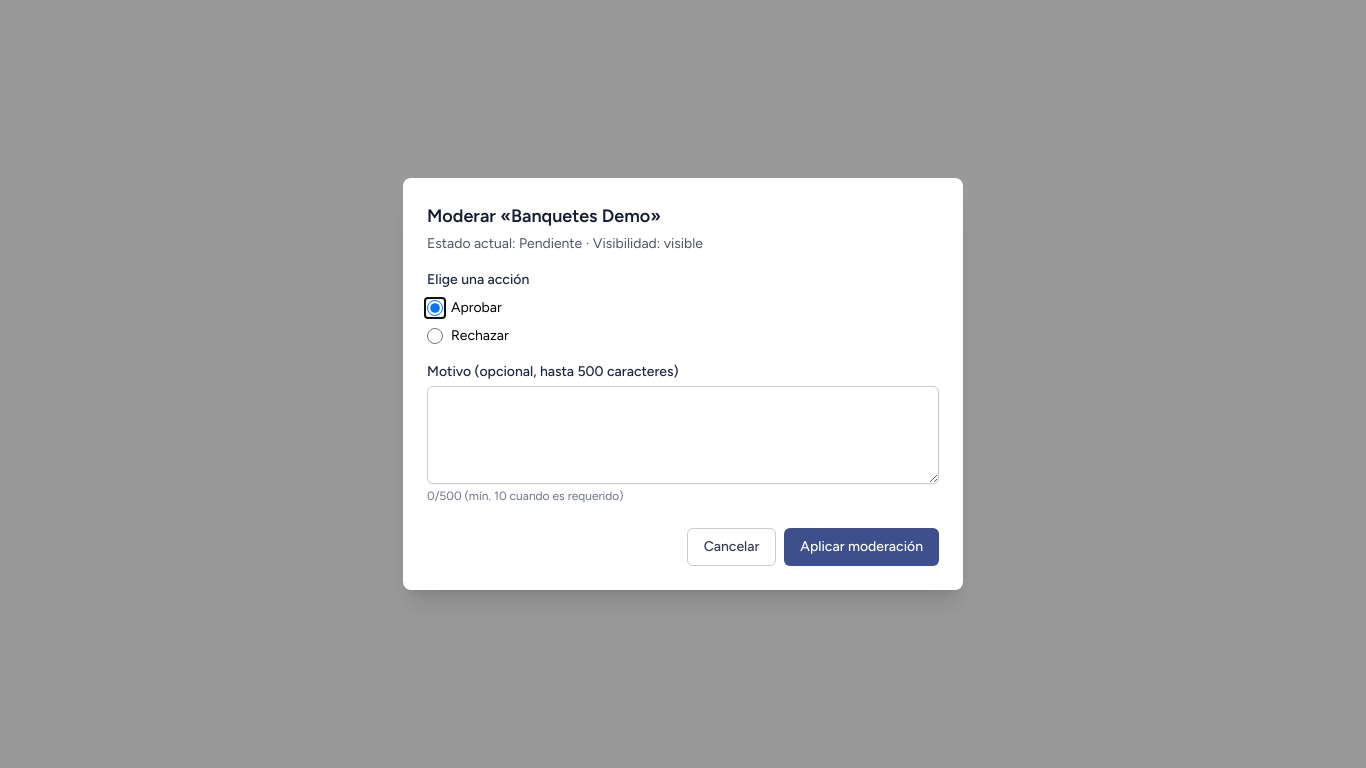
Test: US-074 · VendorModerationDialog › reject (D4) exige reason >= 10 — submit deshabilitado con reason vacío o corto
Click the radio button labelled "Rechazar" at (435, 336), box [427,328,443,344]
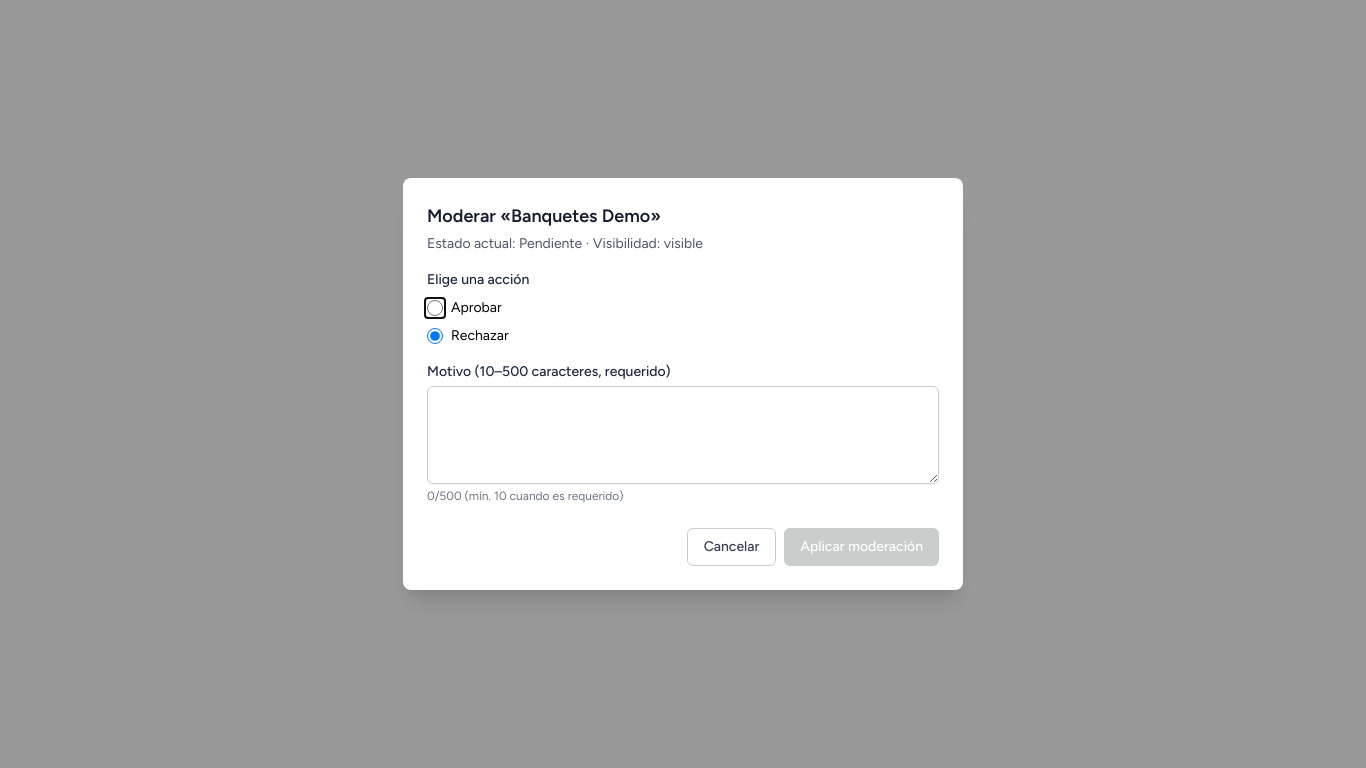
expect the button with test id "vendor-moderation-submit" is disabled: met, box [784,528,939,566]
Type "short" into the text box labelled "Motivo (10–500 caracteres, requerido)" at (683, 435), box [427,386,939,484]
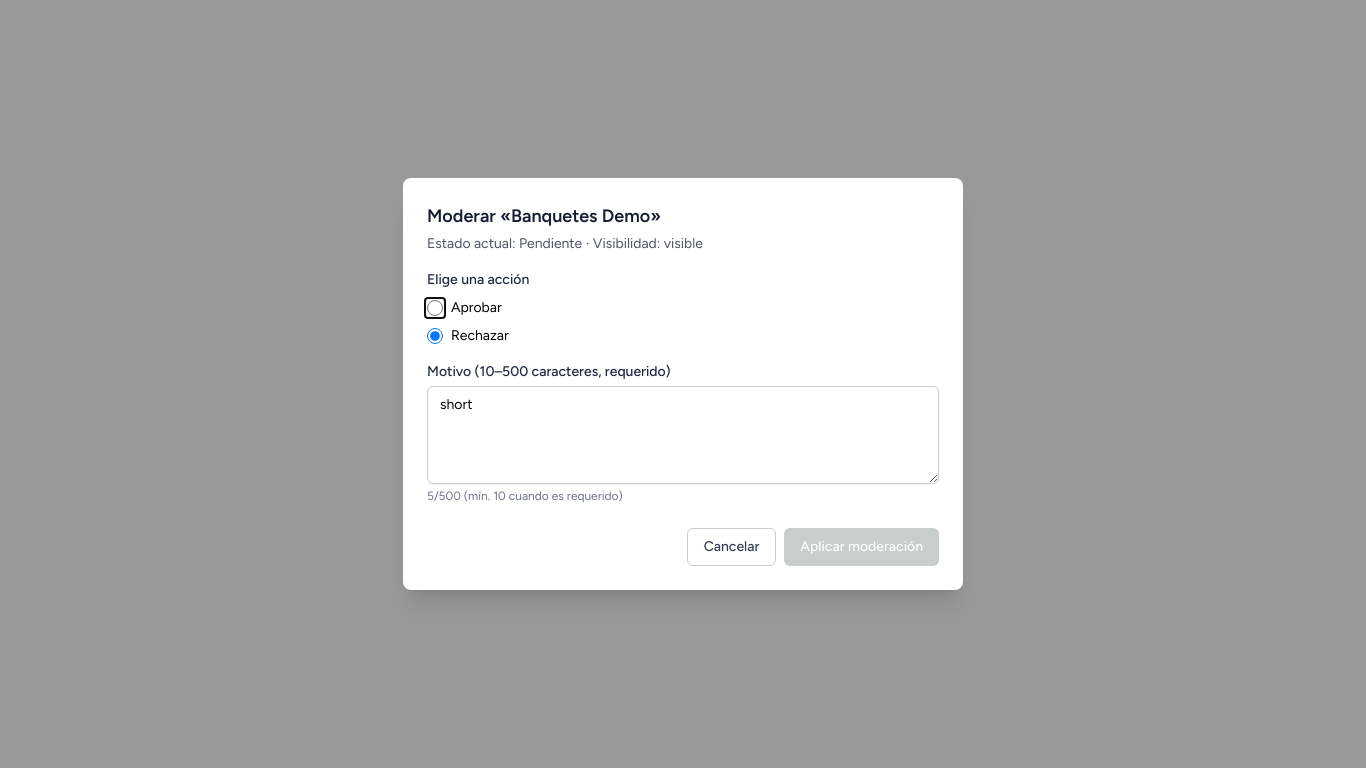
expect the button with test id "vendor-moderation-submit" is disabled: met, box [784,528,939,566]
Replace the text in the text box labelled "Motivo (10–500 caracteres, requerido)" with "Documentación insuficiente verificada." at (683, 435), box [427,386,939,484]
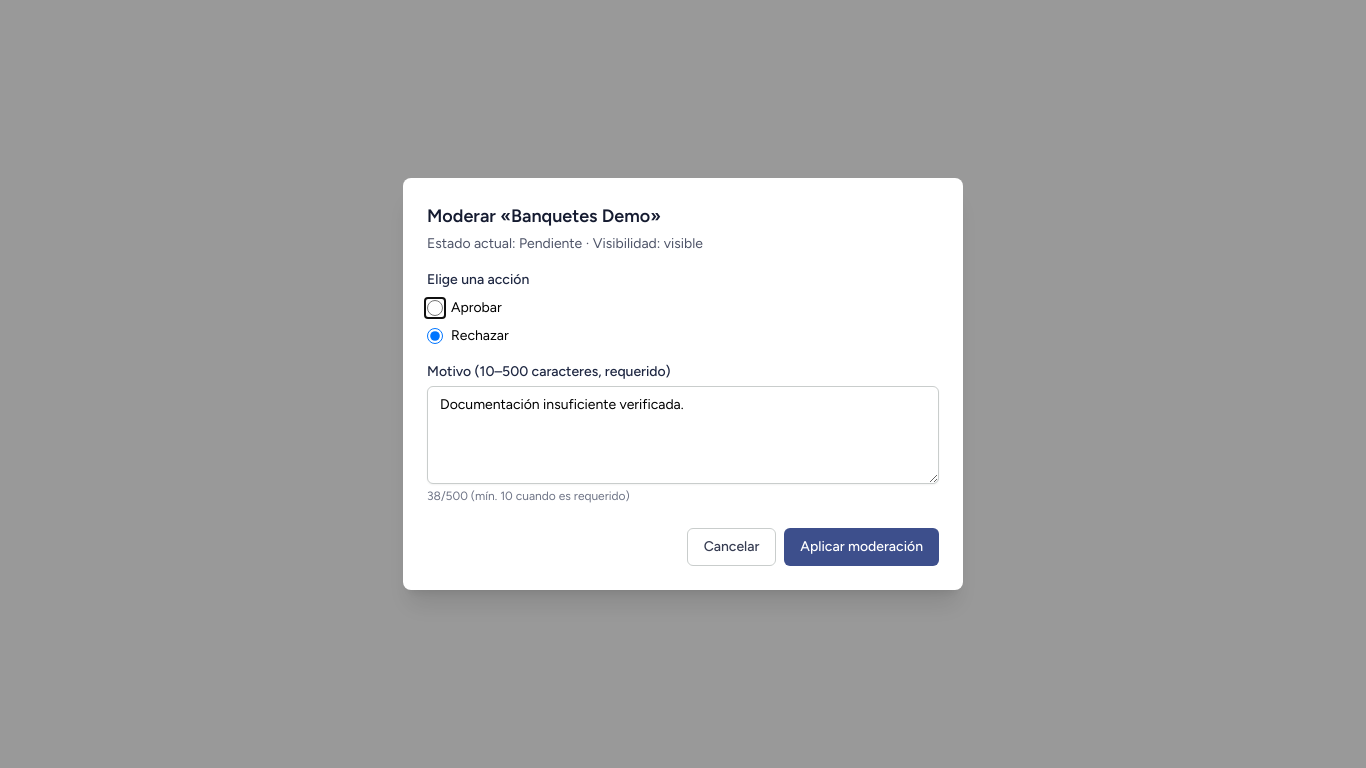
expect the button with test id "vendor-moderation-submit" is enabled: met, box [784,528,939,566]
